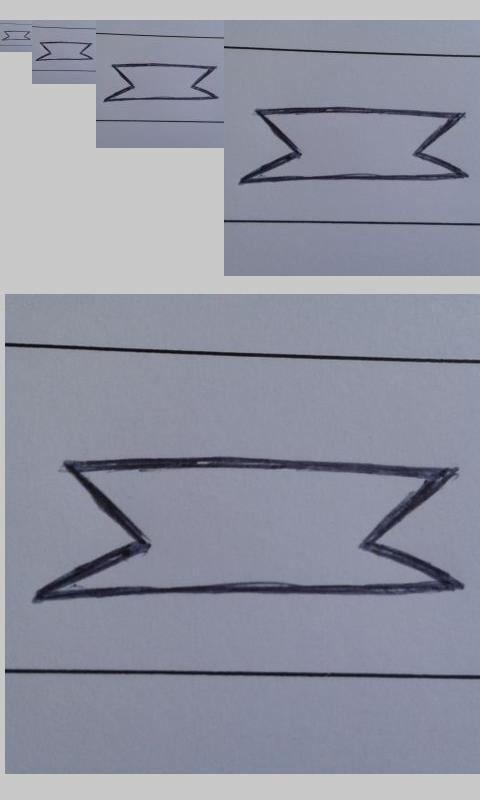edit_text: (35, 458, 459, 606), (239, 108, 467, 182), (104, 63, 217, 102), (36, 41, 93, 61), (2, 31, 30, 40)
